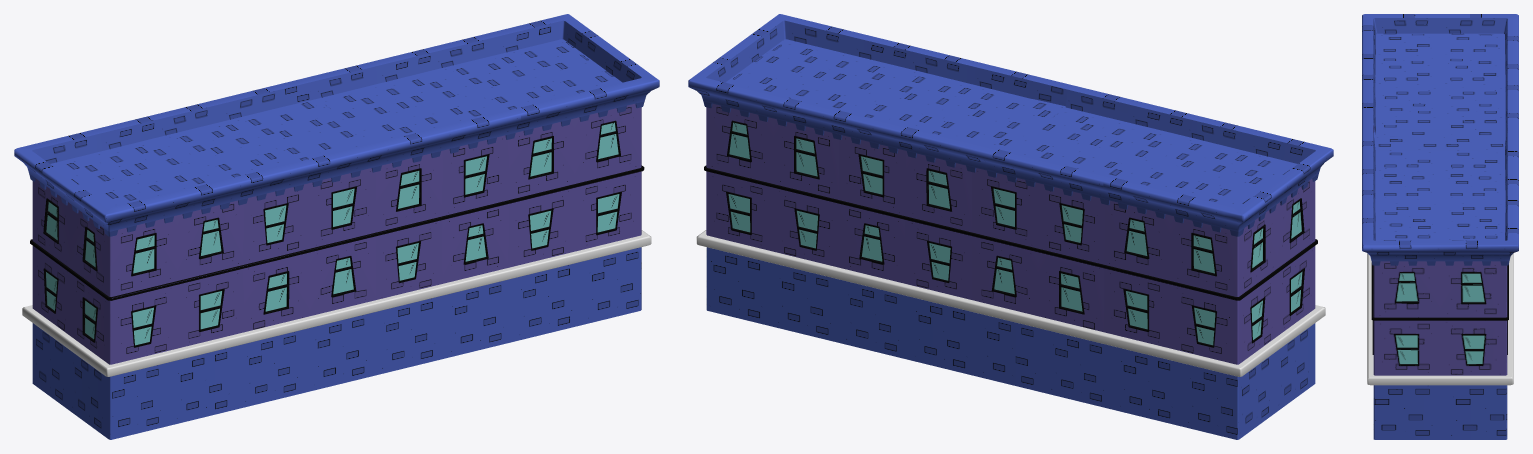
Rendered from bigbuilding1.fbx.
The picture shows the model from 3 angles, left to right: view 1: azimuth 30°, elevation 25°; view 2: azimuth 150°, elevation 25°; view 3: azimuth 270°, elevation 25°; orthographic projection. The views are drawn at different scales.
Visible parts, largest first — view 1: Box157, Box165, Box156, Box158; view 2: Box157, Box165, Box156, Box158; view 3: Box165, Box157, Box156, Box158.
Boxes of the visible parts, x1,y1,x2,y2 form: Box157: (30,104,644,364); Box165: (14,14,659,236); Box156: (32,247,641,439); Box158: (22,230,651,376); Box157: (704,104,1317,364); Box165: (688,14,1333,236); Box156: (706,247,1315,439); Box158: (696,230,1325,376); Box165: (1362,14,1518,265); Box157: (1371,125,1508,375); Box156: (1373,385,1507,439); Box158: (1367,253,1513,385).
Size of the model in its own units: 20.56 by 8.23 by 5.87.
